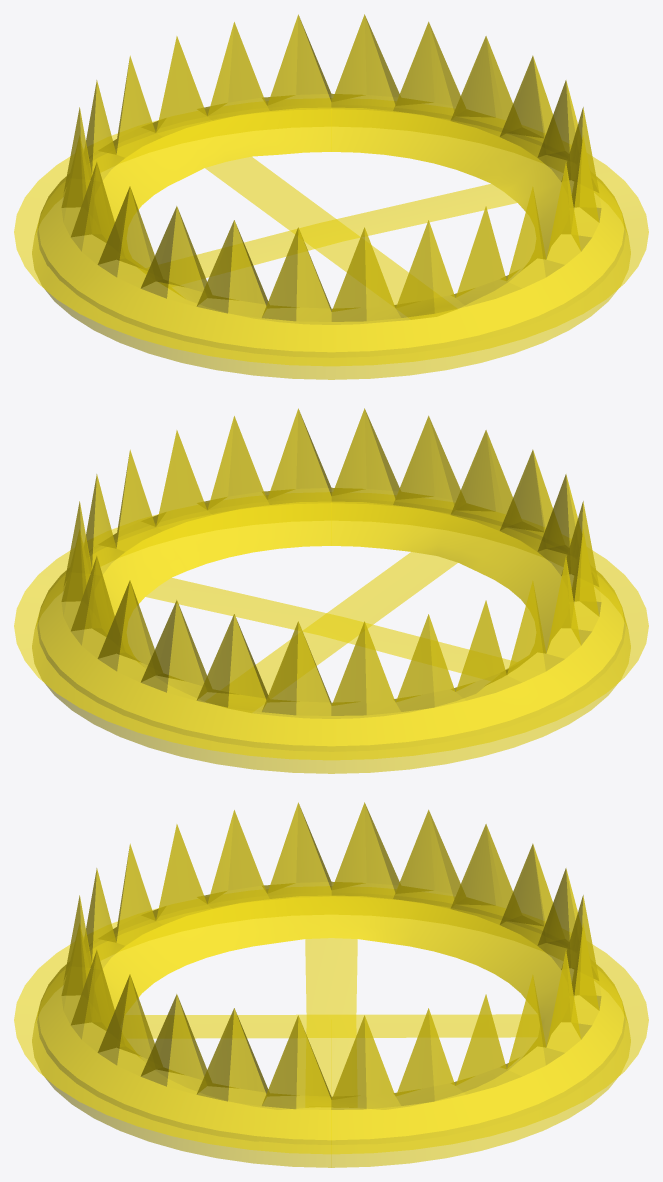
Rendered from weapon.glb.
The picture shows the model from 3 angles, top to bottom: view 1: azimuth 30°, elevation 25°; view 2: azimuth 150°, elevation 25°; view 3: azimuth 270°, elevation 25°; orthographic projection.
Visible parts, largest first — view 1: Torus; view 2: Torus; view 3: Torus.
Boxes of the visible parts, <box> form: Torus: <box>14,14,648,379</box>; Torus: <box>14,408,648,773</box>; Torus: <box>14,802,648,1167</box>.
Size of the model in its own units: 2.5 by 0.577 by 2.5.
